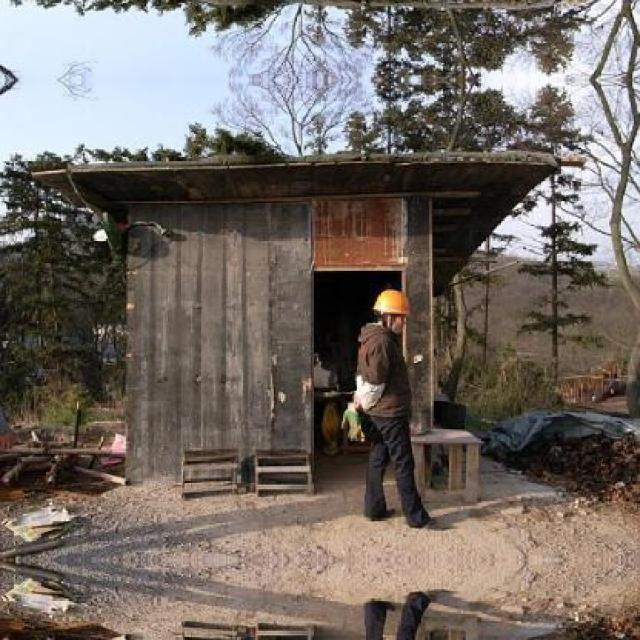helmet: (372, 284, 410, 334)
